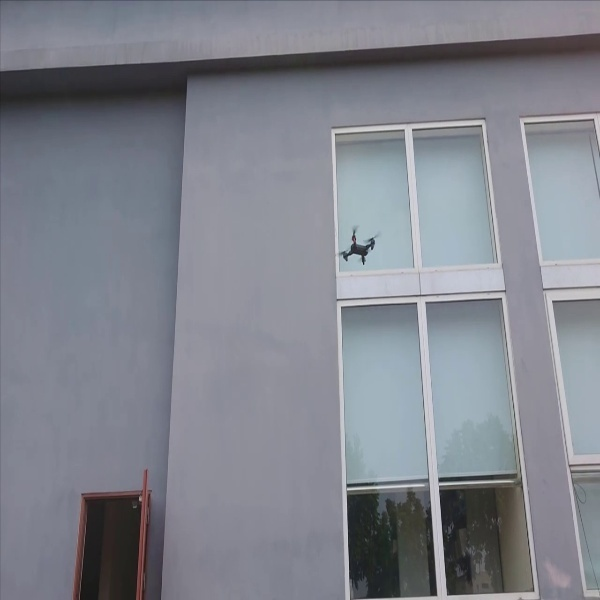drone: (336, 218, 388, 268)
